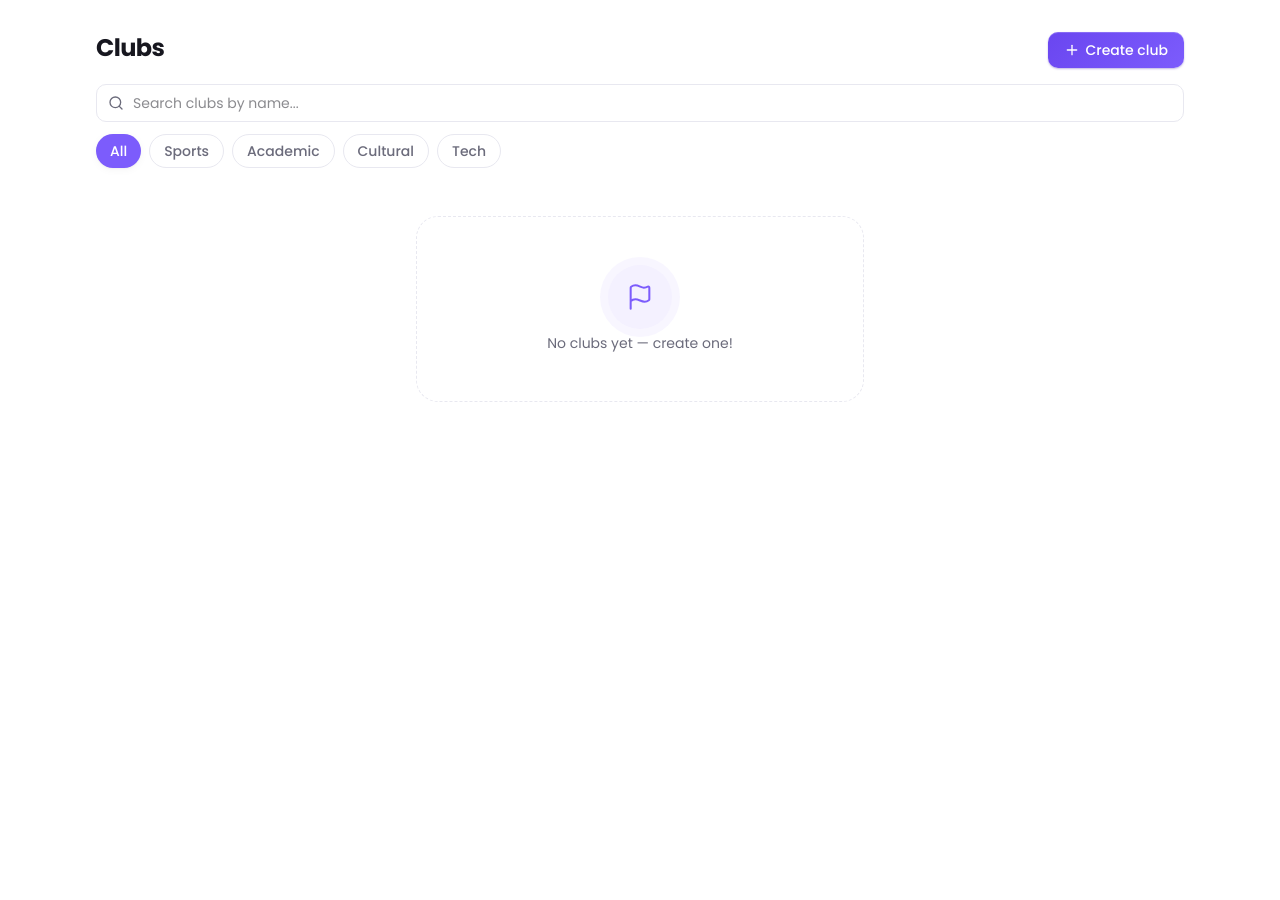
ClubsPage › opens the create-club modal on button click
The image size is (1280, 900).
Check: the text "No clubs yet — create one!" is shown, box [547,333,733,353]
Click the button "Create club" at (1116, 50), box [1048,32,1184,68]
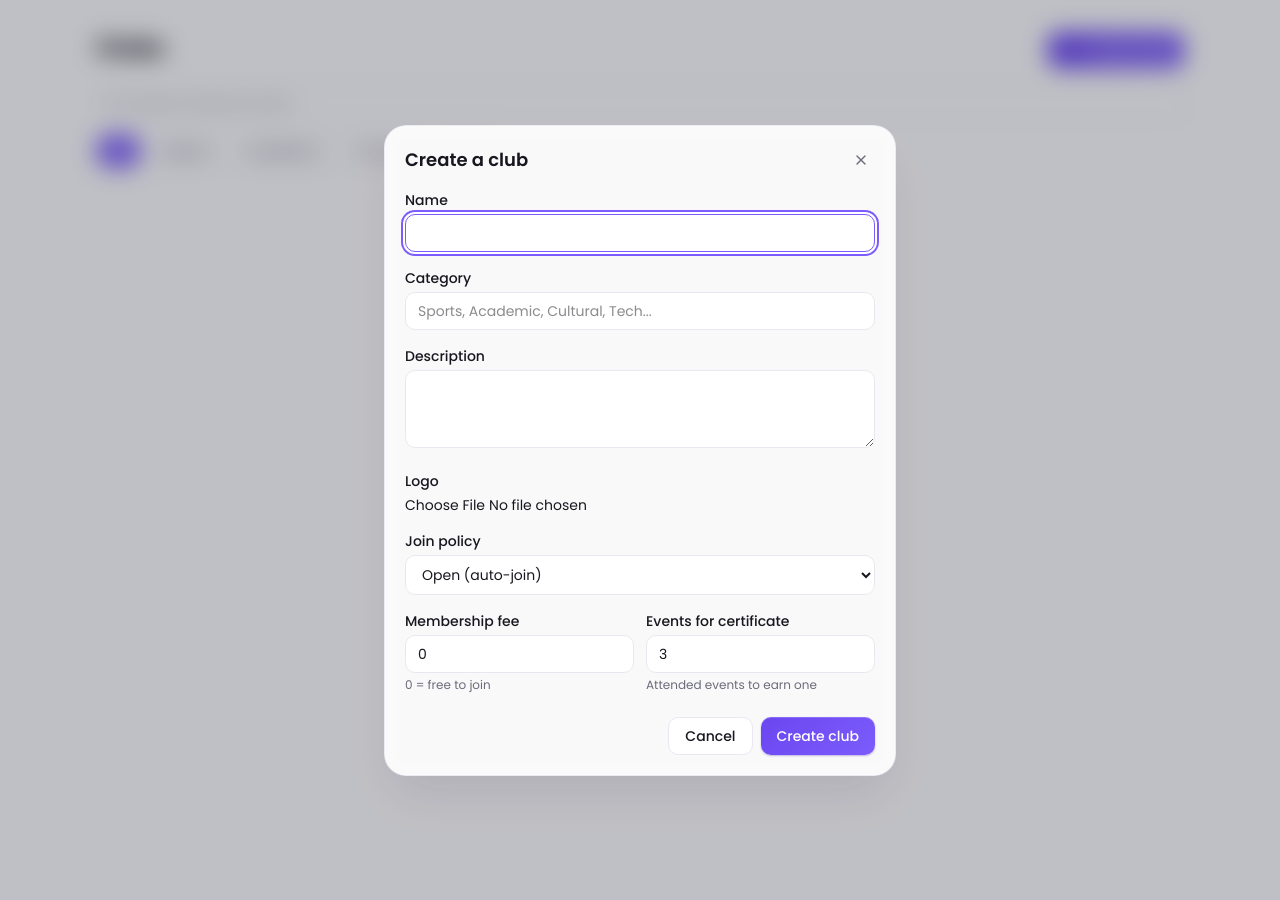
Check: the heading "Create a club" is shown, box [405,146,528,174]
